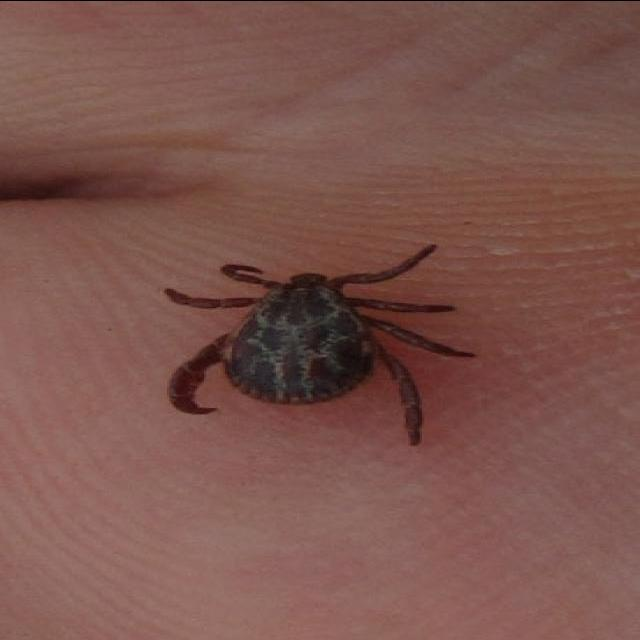Dermacentor Reticulatus-M: (165, 243, 474, 444)
